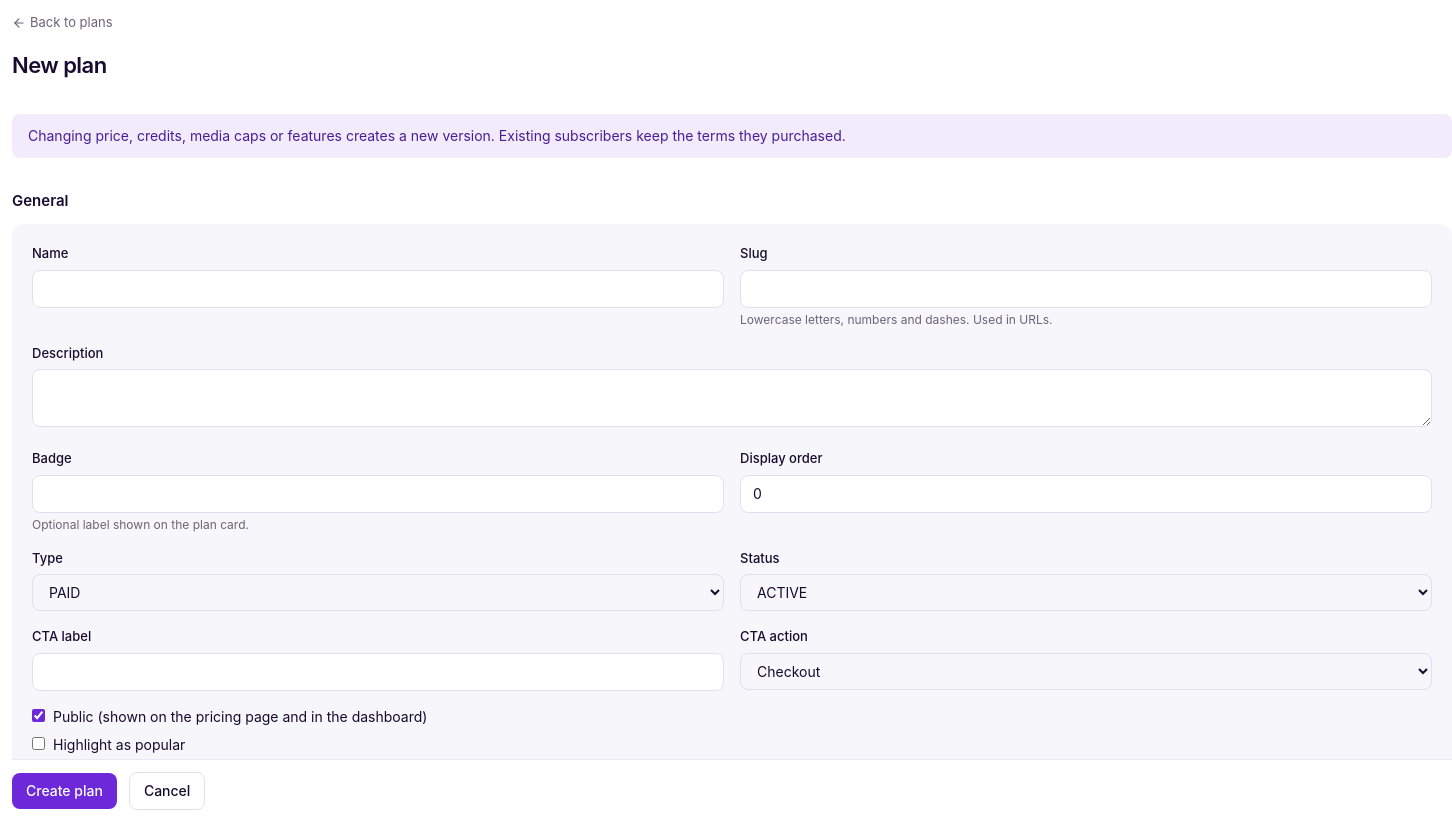
Plan editor › blocks a paid plan without a price
Type "Broken" into the field labelled "Name" at (378, 289), box [32,270,724,308]
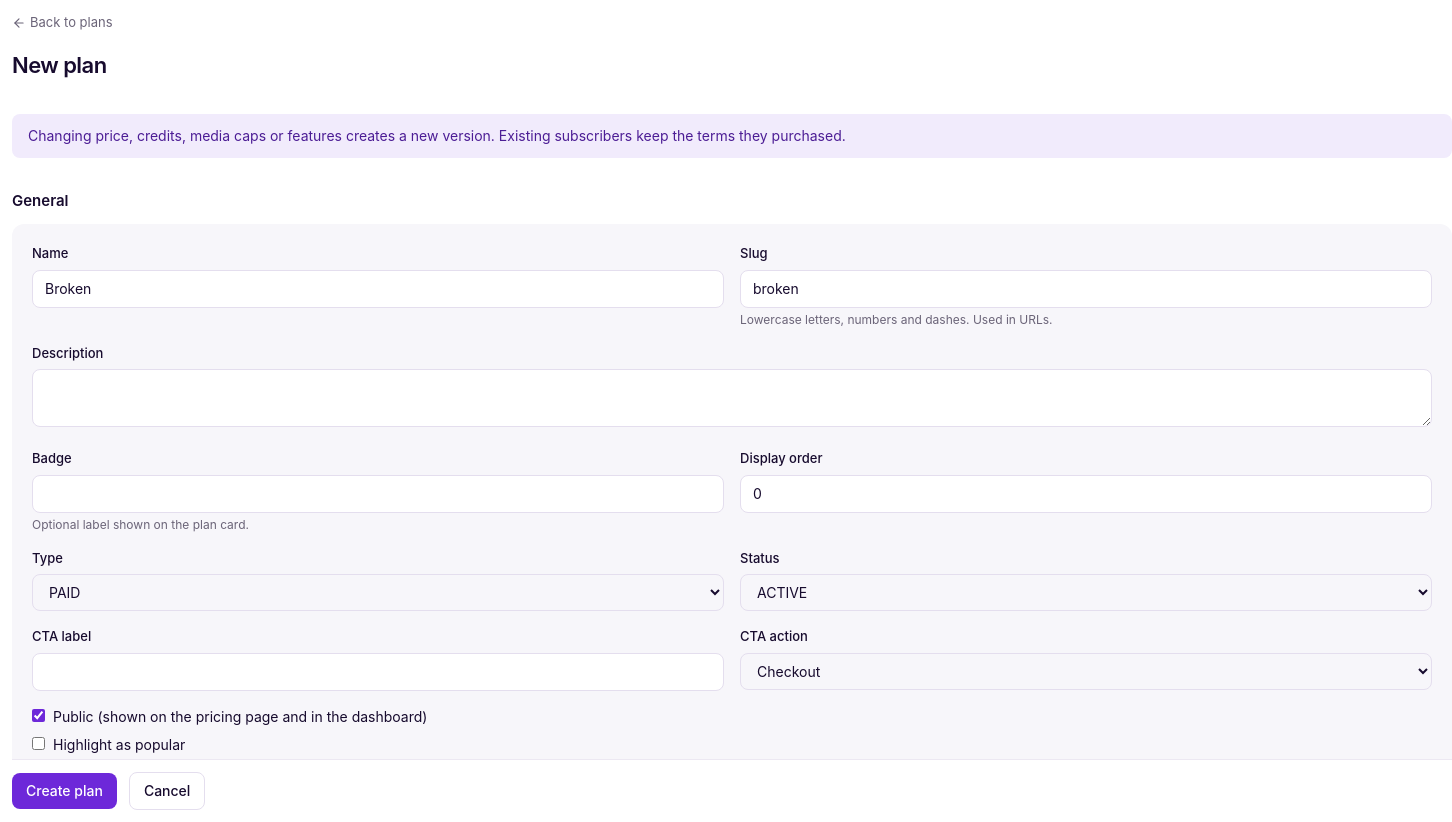
Click the button "Create plan" at (64, 791), box [12,773,117,809]
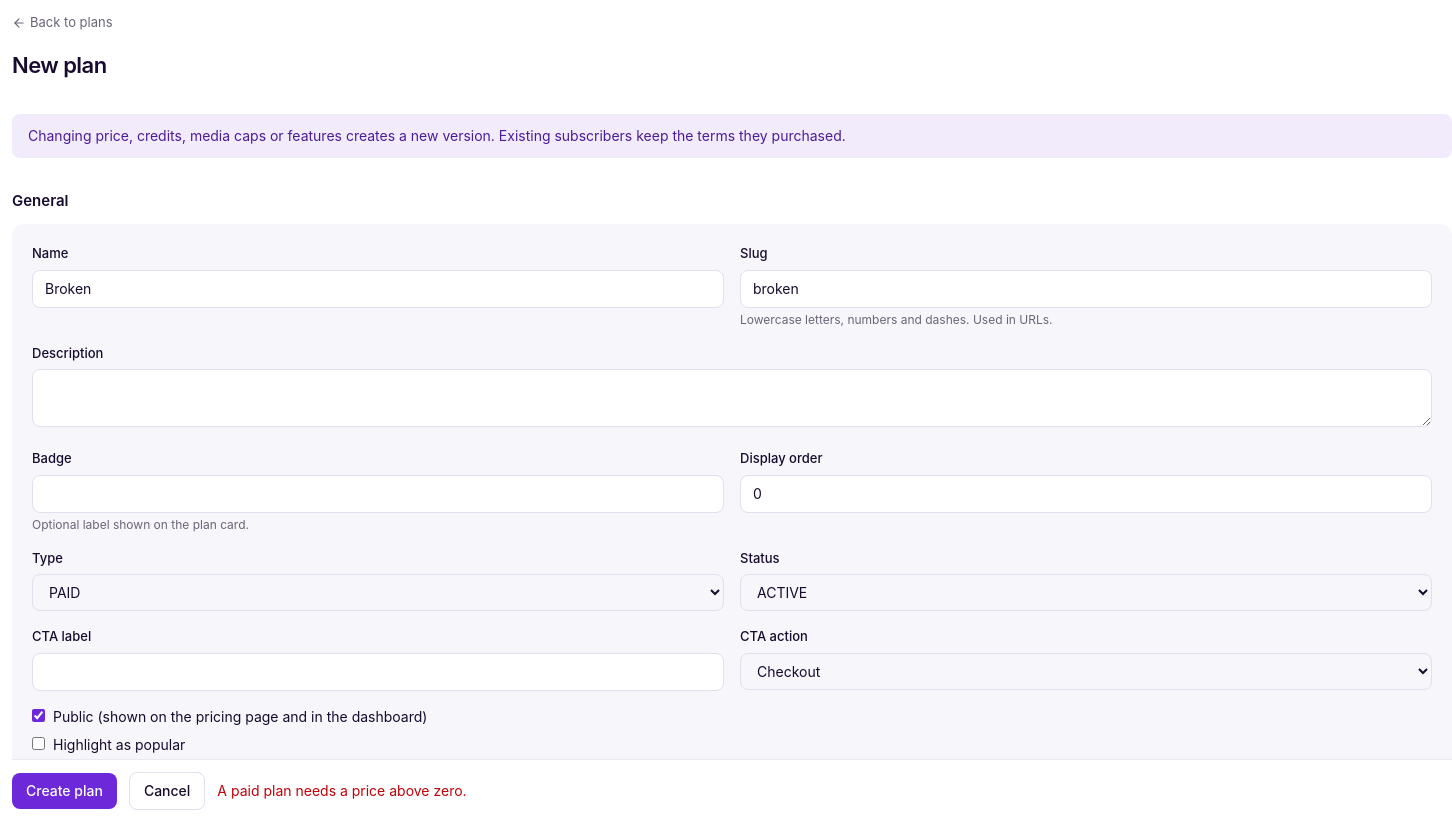
Result: the text "A paid plan needs a price above zero." is shown at [217,781,467,801]
